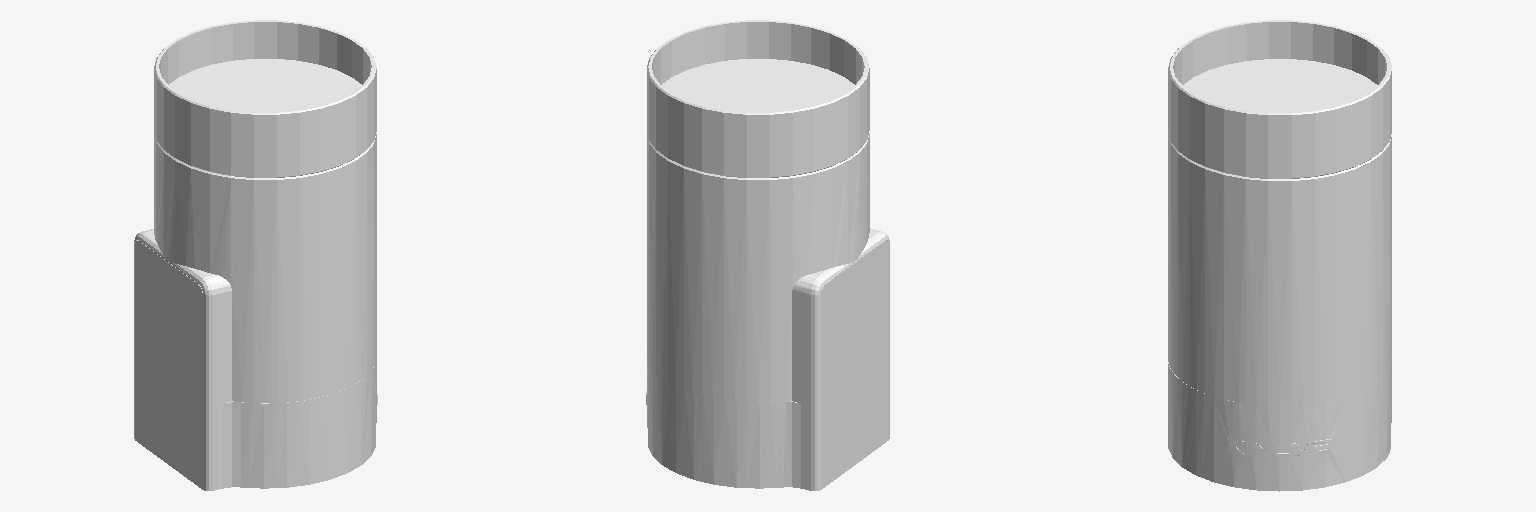
robot.urdf — GEN3-7DOF_BRAKES_NO-VISION_URDF_ARM_V01:
<?xml version="1.0" encoding="utf-8"?>
<robot
  name="GEN3-7DOF_BRAKES_NO-VISION_URDF_ARM_V01">
  <link
    name="base_link">
    <inertial>
      <origin
        xyz="-0.00075876 -0.00019207 0.096054"
        rpy="0 0 0" />
      <mass
        value="1.7566" />
      <inertia
        ixx="0.0056231"
        ixy="5.96E-06"
        ixz="6.235E-05"
        iyy="0.0055152"
        iyz="6.09E-06"
        izz="0.0020523" />
    </inertial>
    <visual>
      <origin
        xyz="0 0 0"
        rpy="0 0 0" />
      <geometry>
        <mesh
          filename="package://kortex_description/arms/gen3/7dof/meshes/base_link.STL" />
      </geometry>
      <material
        name="">
        <color
          rgba="1 1 1 1" />
      </material>
    </visual>
    <collision>
      <origin
        xyz="0 0 0"
        rpy="0 0 0" />
      <geometry>
        <mesh
          filename="package://kortex_description/arms/gen3/7dof/meshes/base_link.STL" />
      </geometry>
    </collision>
  </link>
  <link
    name="shoulder_link">
    <inertial>
      <origin
        xyz="-2.522E-05 -0.0075954 -0.088651"
        rpy="0 0 0" />
      <mass
        value="1.4699" />
      <inertia
        ixx="0.0043269"
        ixy="2.5E-07"
        ixz="9.4E-07"
        iyy="0.0044703"
        iyz="0.0001016"
        izz="0.0014532" />
    </inertial>
    <visual>
      <origin
        xyz="0 0 0"
        rpy="0 0 0" />
      <geometry>
        <mesh
          filename="package://kortex_description/arms/gen3/7dof/meshes/shoulder_link.STL" />
      </geometry>
      <material
        name="">
        <color
          rgba="0.84706 0.8549 0.85098 1" />
      </material>
    </visual>
    <collision>
      <origin
        xyz="0 0 0"
        rpy="0 0 0" />
      <geometry>
        <mesh
          filename="package://kortex_description/arms/gen3/7dof/meshes/shoulder_link.STL" />
      </geometry>
    </collision>
  </link>
  <joint
    name="joint_1"
    type="continuous">
    <origin
      xyz="0 0 0.15643"
      rpy="3.1416 0 0" />
    <parent
      link="base_link" />
    <child
      link="shoulder_link" />
    <axis
      xyz="0 0 1" />
    <limit
      effort="39"
      velocity="1.3963" />
  </joint>
  <link
    name="half_arm_1_link">
    <inertial>
      <origin
        xyz="-4.533E-05 -0.12951716 -0.01354356"
        rpy="0 0 0" />
      <mass
        value="1.2357745" />
      <inertia
        ixx="0.0115879"
        ixy="-1.05E-06"
        ixz="5E-08"
        iyy="0.00104574"
        iyz="-0.00096902"
        izz="0.0116684" />
    </inertial>
    <visual>
      <origin
        xyz="0 0 0"
        rpy="0 0 0" />
      <geometry>
        <mesh
          filename="package://kortex_description/arms/gen3/7dof/meshes/half_arm_1_link.STL" />
      </geometry>
      <material
        name="">
        <color
          rgba="0.75294 0.75294 0.75294 1" />
      </material>
    </visual>
    <collision>
      <origin
        xyz="0 0 0"
        rpy="0 0 0" />
      <geometry>
        <mesh
          filename="package://kortex_description/arms/gen3/7dof/meshes/half_arm_1_link.STL" />
      </geometry>
    </collision>
  </link>
  <joint
    name="joint_2"
    type="revolute">
    <origin
      xyz="0 0.005375 -0.12838"
      rpy="1.5708 0 0" />
    <parent
      link="shoulder_link" />
    <child
      link="half_arm_1_link" />
    <axis
      xyz="0 0 1" />
    <limit
      lower="-2.24"
      upper="2.24"
      effort="39"
      velocity="1.3963" />
  </joint>
  <link
    name="half_arm_2_link">
    <inertial>
      <origin
        xyz="-4.533E-05 -0.00361448 -0.14407154"
        rpy="0 0 0" />
      <mass
        value="1.2357745" />
      <inertia
        ixx="0.01009873"
        ixy="5.7E-07"
        ixz="1.89E-06"
        iyy="0.01017801"
        iyz="0.00013166"
        izz="0.00104697" />
    </inertial>
    <visual>
      <origin
        xyz="0 0 0"
        rpy="0 0 0" />
      <geometry>
        <mesh
          filename="package://kortex_description/arms/gen3/7dof/meshes/half_arm_2_link.STL" />
      </geometry>
      <material
        name="">
        <color
          rgba="0.75294 0.75294 0.75294 1" />
      </material>
    </visual>
    <collision>
      <origin
        xyz="0 0 0"
        rpy="0 0 0" />
      <geometry>
        <mesh
          filename="package://kortex_description/arms/gen3/7dof/meshes/half_arm_2_link.STL" />
      </geometry>
    </collision>
  </link>
  <joint
    name="joint_3"
    type="continuous">
    <origin
      xyz="0 -0.21038 -0.006375"
      rpy="-1.5708 0 0" />
    <parent
      link="half_arm_1_link" />
    <child
      link="half_arm_2_link" />
    <axis
      xyz="0 0 1" />
    <limit
      effort="39"
      velocity="1.3963" />
  </joint>
  <link
    name="forearm_link">
    <inertial>
      <origin
        xyz="-0.00030188 -0.104938 -0.01559665"
        rpy="0 0 0" />
      <mass
        value="0.89954802" />
      <inertia
        ixx="0.00889854"
        ixy="1.98E-05"
        ixz="-2.39E-06"
        iyy="0.00060297"
        iyz="-0.00074456"
        izz="0.00898975" />
    </inertial>
    <visual>
      <origin
        xyz="0 0 0"
        rpy="0 0 0" />
      <geometry>
        <mesh
          filename="package://kortex_description/arms/gen3/7dof/meshes/forearm_link.STL" />
      </geometry>
      <material
        name="">
        <color
          rgba="0.84706 0.8549 0.85098 1" />
      </material>
    </visual>
    <collision>
      <origin
        xyz="0 0 0"
        rpy="0 0 0" />
      <geometry>
        <mesh
          filename="package://kortex_description/arms/gen3/7dof/meshes/forearm_link.STL" />
      </geometry>
    </collision>
  </link>
  <joint
    name="joint_4"
    type="revolute">
    <origin
      xyz="0 0.006375 -0.21038"
      rpy="1.5708 0 0" />
    <parent
      link="half_arm_2_link" />
    <child
      link="forearm_link" />
    <axis
      xyz="0 0 1" />
    <limit
      lower="-2.57"
      upper="2.57"
      effort="39"
      velocity="1.3963" />
  </joint>
  <link
    name="spherical_wrist_1_link">
    <inertial>
      <origin
        xyz="-0.00035363 -0.00659443 -0.07560343"
        rpy="0 0 0" />
      <mass
        value="0.70588351" />
      <inertia
        ixx="0.00145671"
        ixy="3.35E-06"
        ixz="7.62E-06"
        iyy="0.00145189"
        iyz="0.00012055"
        izz="0.00039299" />
    </inertial>
    <visual>
      <origin
        xyz="0 0 0"
        rpy="0 0 0" />
      <geometry>
        <mesh
          filename="package://kortex_description/arms/gen3/7dof/meshes/spherical_wrist_1_link.STL" />
      </geometry>
      <material
        name="">
        <color
          rgba="0.84706 0.8549 0.85098 1" />
      </material>
    </visual>
    <collision>
      <origin
        xyz="0 0 0"
        rpy="0 0 0" />
      <geometry>
        <mesh
          filename="package://kortex_description/arms/gen3/7dof/meshes/spherical_wrist_1_link.STL" />
      </geometry>
    </collision>
  </link>
  <joint
    name="joint_5"
    type="continuous">
    <origin
      xyz="0 -0.20843 -0.006375"
      rpy="-1.5708 0 0" />
    <parent
      link="forearm_link" />
    <child
      link="spherical_wrist_1_link" />
    <axis
      xyz="0 0 1" />
    <limit
      effort="9"
      velocity="1.2218" />
  </joint>
  <link
    name="spherical_wrist_2_link">
    <inertial>
      <origin
        xyz="-0.00035547 -0.06159424 -0.00850171"
        rpy="0 0 0" />
      <mass
        value="0.70583924" />
      <inertia
        ixx="0.00187208"
        ixy="6.1E-06"
        ixz="-2.17E-06"
        iyy="0.00041077"
        iyz="-0.00033774"
        izz="0.0018494" />
    </inertial>
    <visual>
      <origin
        xyz="0 0 0"
        rpy="0 0 0" />
      <geometry>
        <mesh
          filename="package://kortex_description/arms/gen3/7dof/meshes/spherical_wrist_2_link.STL" />
      </geometry>
      <material
        name="">
        <color
          rgba="0.84706 0.8549 0.85098 1" />
      </material>
    </visual>
    <collision>
      <origin
        xyz="0 0 0"
        rpy="0 0 0" />
      <geometry>
        <mesh
          filename="package://kortex_description/arms/gen3/7dof/meshes/spherical_wrist_2_link.STL" />
      </geometry>
    </collision>
  </link>
  <joint
    name="joint_6"
    type="revolute">
    <origin
      xyz="0 0.00017505 -0.10593"
      rpy="1.5708 0 0" />
    <parent
      link="spherical_wrist_1_link" />
    <child
      link="spherical_wrist_2_link" />
    <axis
      xyz="0 0 1" />
    <limit
      lower="-2.09"
      upper="2.09"
      effort="9"
      velocity="1.2218" />
  </joint>
  <link
    name="bracelet_link">
    <inertial>
      <origin
        xyz="-0.00010337 0.00015804 -0.02874642"
        rpy="0 0 0" />
      <mass
        value="0.31573861" />
      <inertia
        ixx="0.00018712"
        ixy="6E-08"
        ixz="7.7E-07"
        iyy="0.00019576"
        iyz="-1.62E-06"
        izz="0.0002257" />
    </inertial>
    <visual>
      <origin
        xyz="0 0 0"
        rpy="0 0 0" />
      <geometry>
        <mesh
          filename="package://kortex_description/arms/gen3/7dof/meshes/bracelet_no_vision_link.STL" />
      </geometry>
      <material
        name="">
        <color
          rgba="0.75294 0.75294 0.75294 1" />
      </material>
    </visual>
    <collision>
      <origin
        xyz="0 0 0"
        rpy="0 0 0" />
      <geometry>
        <mesh
          filename="package://kortex_description/arms/gen3/7dof/meshes/bracelet_no_vision_link.STL" />
      </geometry>
    </collision>
  </link>
  <joint
    name="joint_7"
    type="continuous">
    <origin
      xyz="0 -0.10593 -0.00017505"
      rpy="-1.5708 0 0" />
    <parent
      link="spherical_wrist_2_link" />
    <child
      link="bracelet_link" />
    <axis
      xyz="0 0 1" />
    <limit
      effort="9"
      velocity="1.2218" />
  </joint>
  <link
    name="end_effector_link">
    <inertial>
      <origin
        xyz="0 0 0"
        rpy="0 0 0" />
      <mass
        value="0" />
      <inertia
        ixx="0"
        ixy="0"
        ixz="0"
        iyy="0"
        iyz="0"
        izz="0" />
    </inertial>
  </link>
  <joint
    name="end_effector"
    type="fixed">
    <origin
      xyz="0 0 -0.061525"
      rpy="3.1416 0 0" />
    <parent
      link="bracelet_link" />
    <child
      link="end_effector_link" />
    <axis
      xyz="0 0 0" />
  </joint>
</robot>

--- Render facts (derived) ---
The picture shows the robot from 3 angles, left to right: view 1: azimuth 30°, elevation 25°; view 2: azimuth 150°, elevation 25°; view 3: azimuth 270°, elevation 25°; orthographic projection.
Robot: GEN3-7DOF_BRAKES_NO-VISION_URDF_ARM_V01 — 9 links, 8 joints (3 revolute, 4 continuous, 1 fixed); root link base_link; default pose: every joint at zero.
Links seen in each view (by area): view 1: base_link; view 2: base_link; view 3: base_link.
Boxes of the visible links, x1,y1,x2,y2 form: base_link: (134, 20, 377, 490); base_link: (646, 20, 889, 490); base_link: (1168, 20, 1391, 491).
Bounding box of the posed robot: 0.0925 × 0.0922 × 0.1708 m (x, y, z).
1 mesh visuals loaded from 8 distinct referenced files (1 binary STL); not drawn: 7 (reference not matched to a file when rendering).